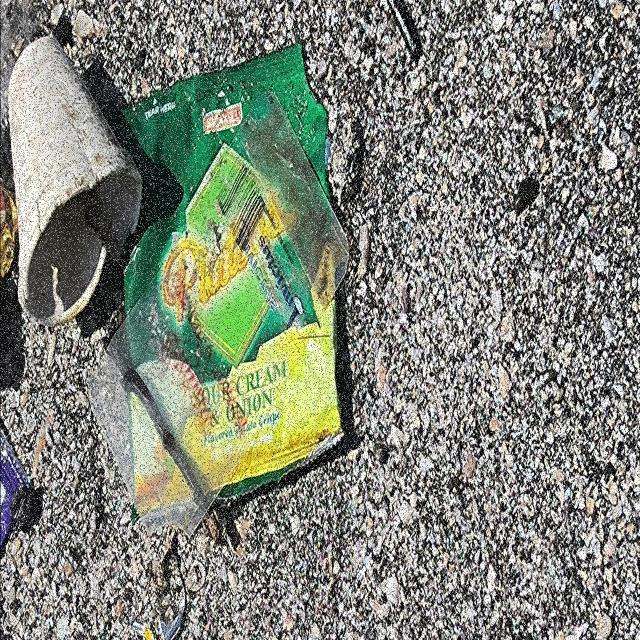plastic_waste: (116, 39, 348, 516)
styrofoam_waste: (8, 34, 144, 330)
